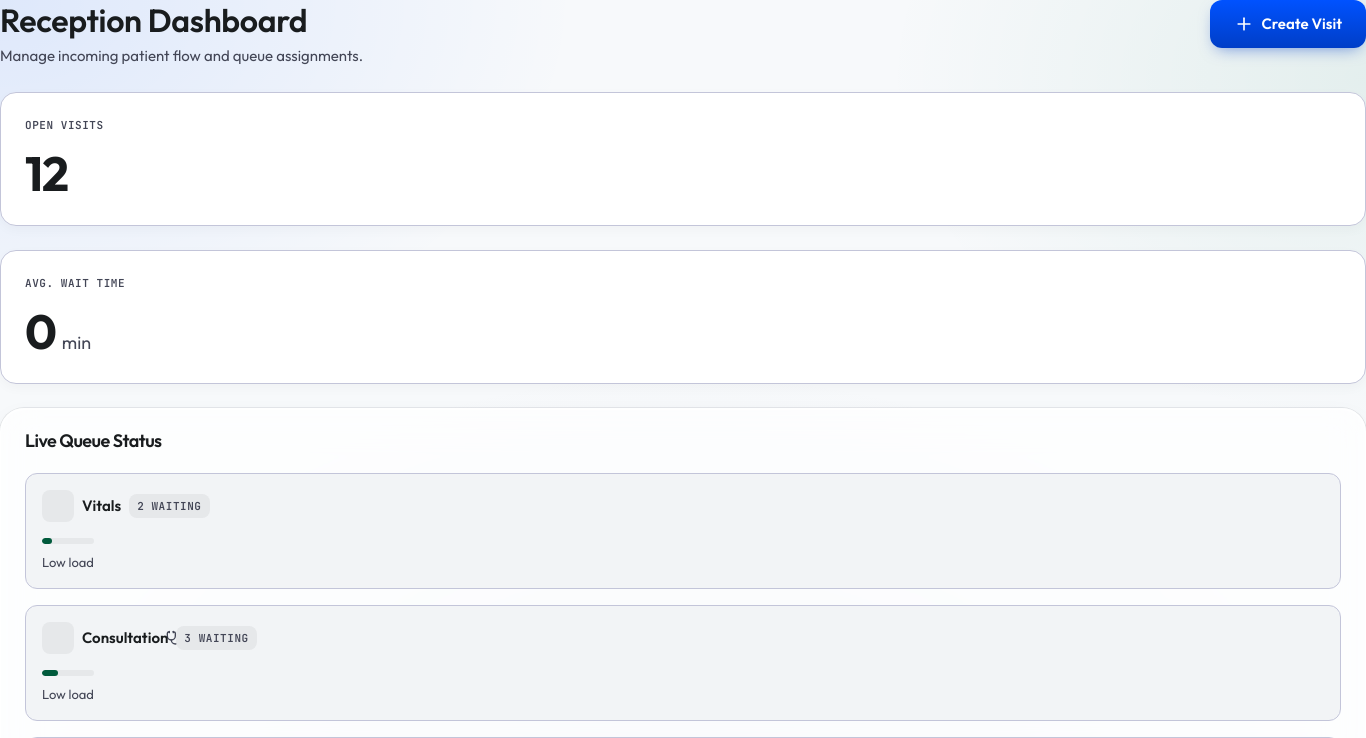
Test: Admission › refuses to submit without a name, and sends nothing
The image size is (1366, 738).
Click the button "Create Visit": (1288, 24) [1210,0,1365,48]
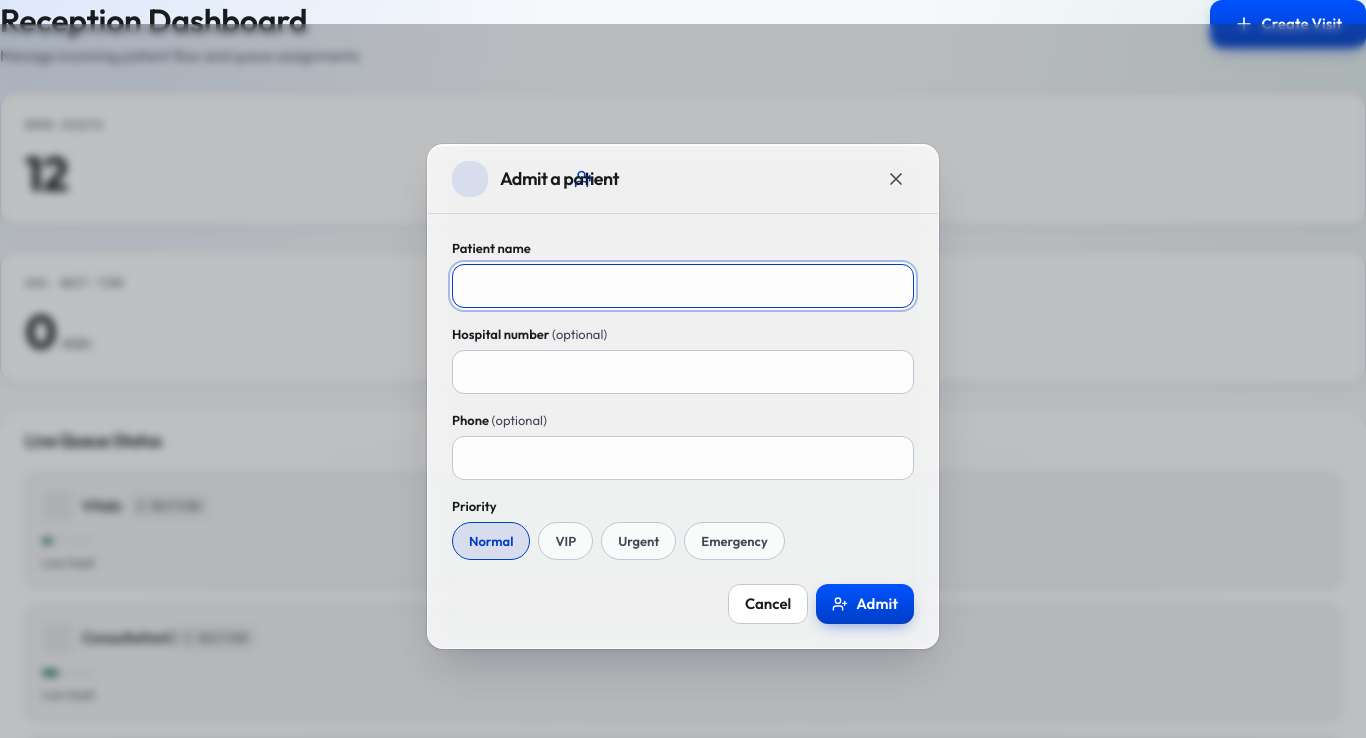
Click the button "Admit": (865, 604) [816,584,914,624]
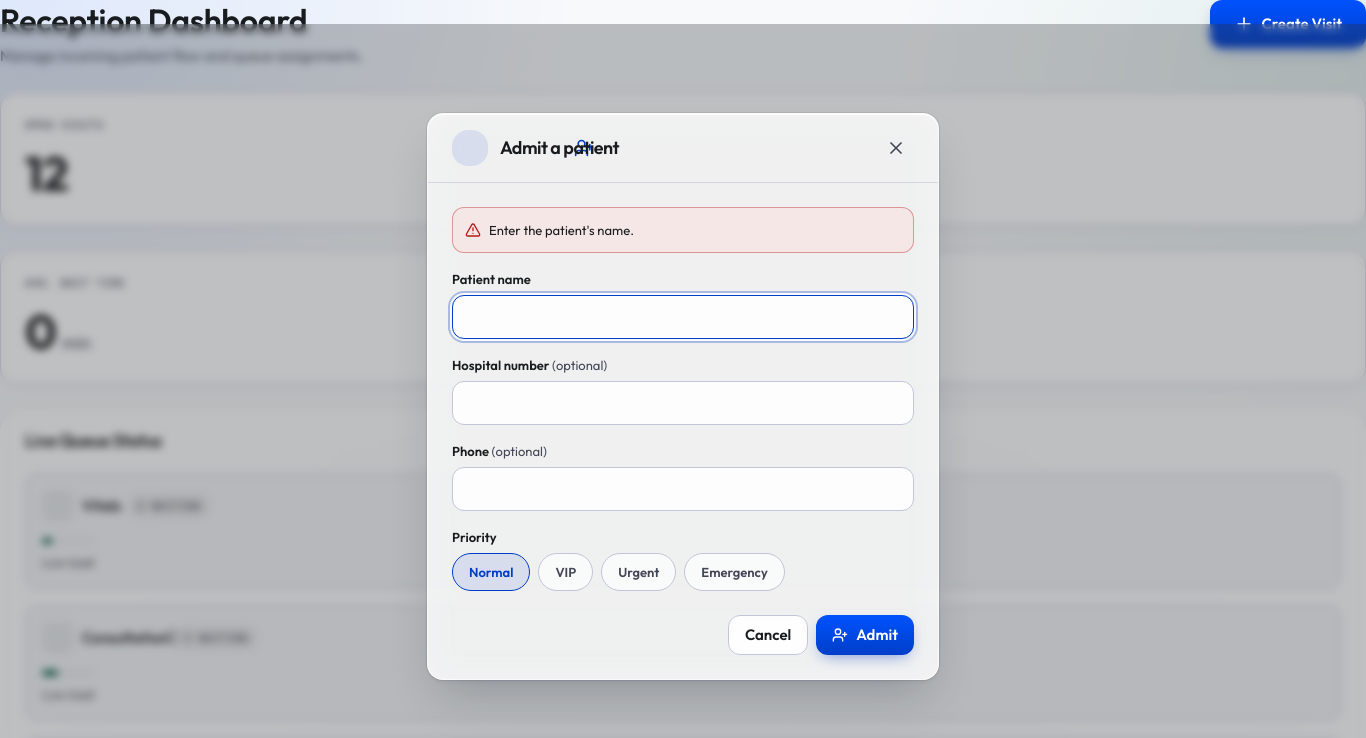
Expected: the message shows "patient's name", [489,222,634,238]
